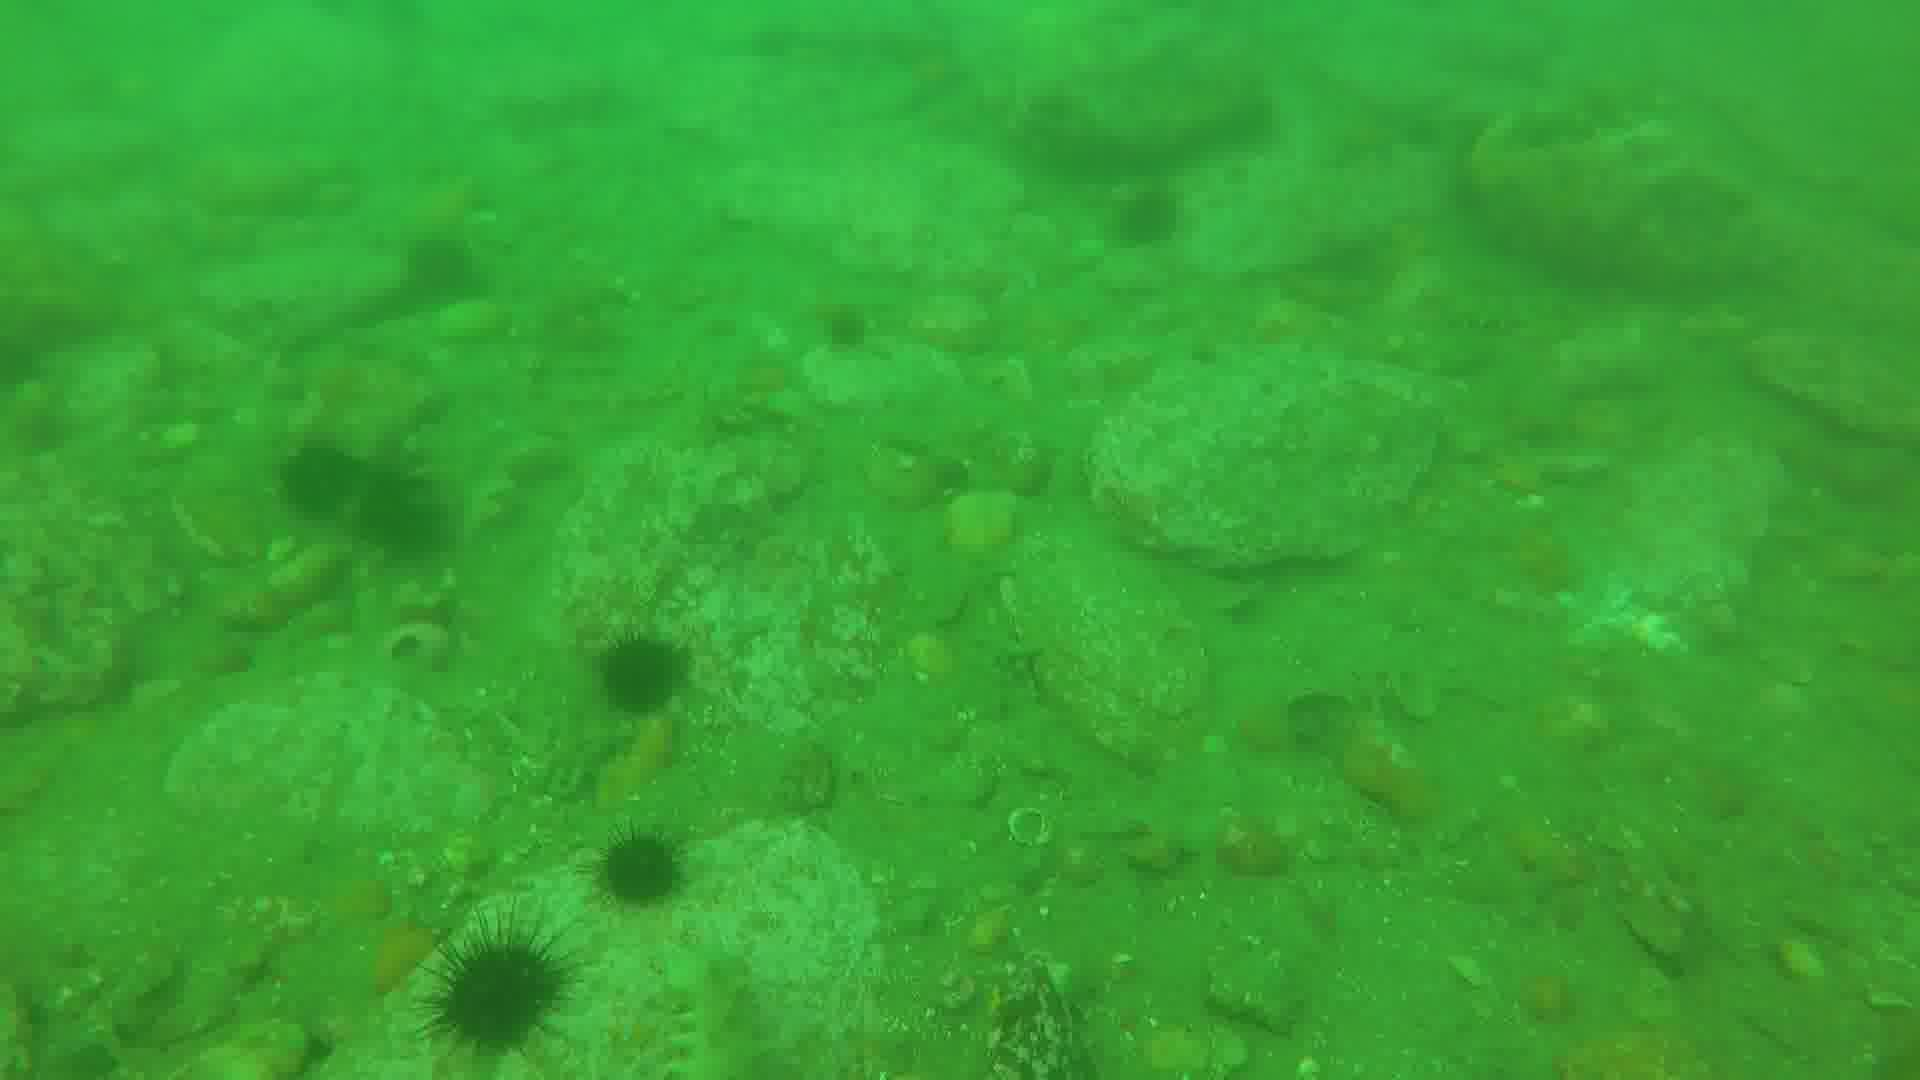echinus: (433, 919, 568, 1048), (603, 626, 695, 716), (353, 467, 448, 554), (607, 822, 684, 909), (284, 444, 364, 524), (414, 243, 480, 311), (1130, 179, 1191, 248), (820, 307, 873, 351)
scallop: (1010, 804, 1056, 855)
